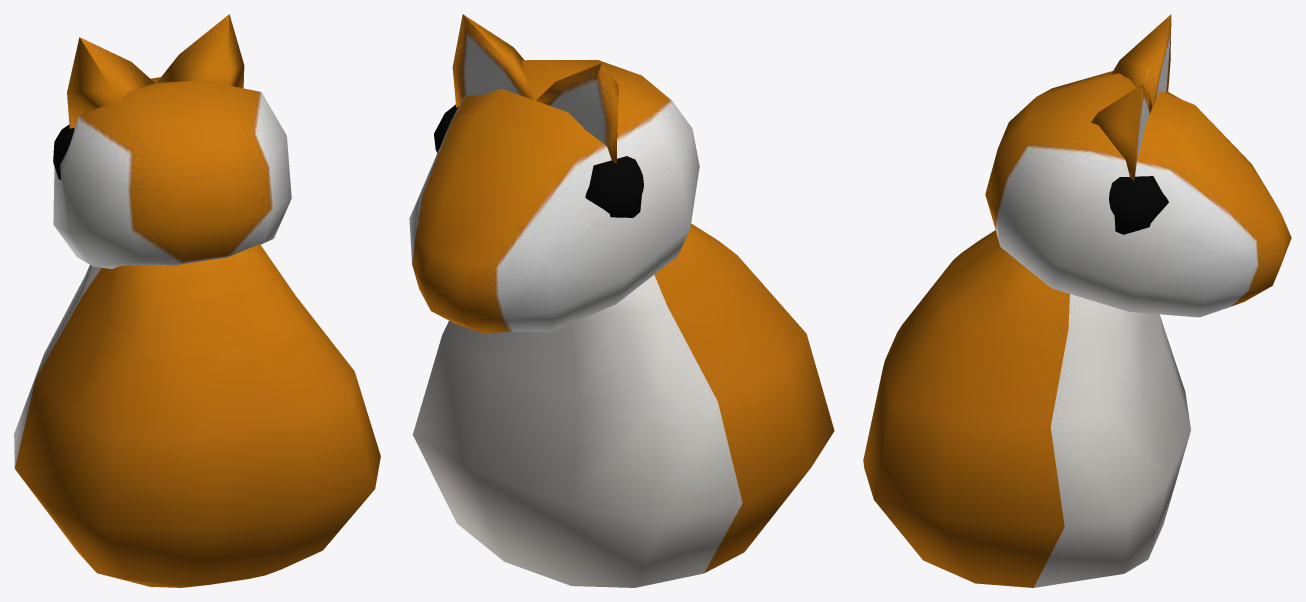
Rendered from baby03.FBX.
The picture shows the model from 3 angles, left to right: view 1: azimuth 30°, elevation 25°; view 2: azimuth 150°, elevation 25°; view 3: azimuth 270°, elevation 25°; orthographic projection. The views are drawn at different scales.
Visible parts, largest first — view 1: baby03; view 2: baby03; view 3: baby03.
Part boxes in pixels (left/top/right/bottom): baby03: left=14, top=14, right=380, bottom=587; baby03: left=409, top=14, right=834, bottom=587; baby03: left=863, top=14, right=1291, bottom=587.
Size of the model in its own units: 0.0879 by 0.1323 by 0.0986.
